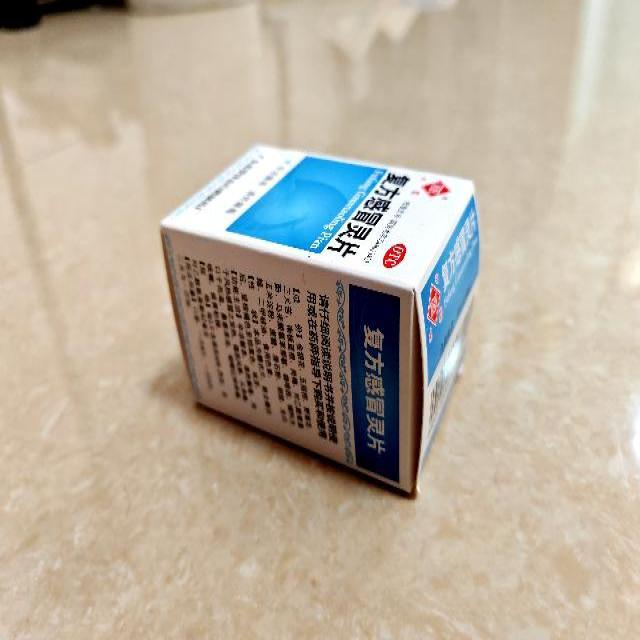box: (160, 142, 482, 498)
